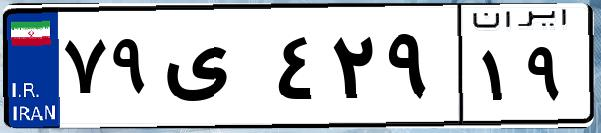1: (475, 38, 525, 113)
2: (330, 28, 385, 110)
4: (270, 28, 330, 110)
7: (57, 26, 110, 100)
9: (385, 28, 445, 110), (525, 38, 570, 115), (110, 28, 158, 98)
ی: (158, 20, 270, 120)
